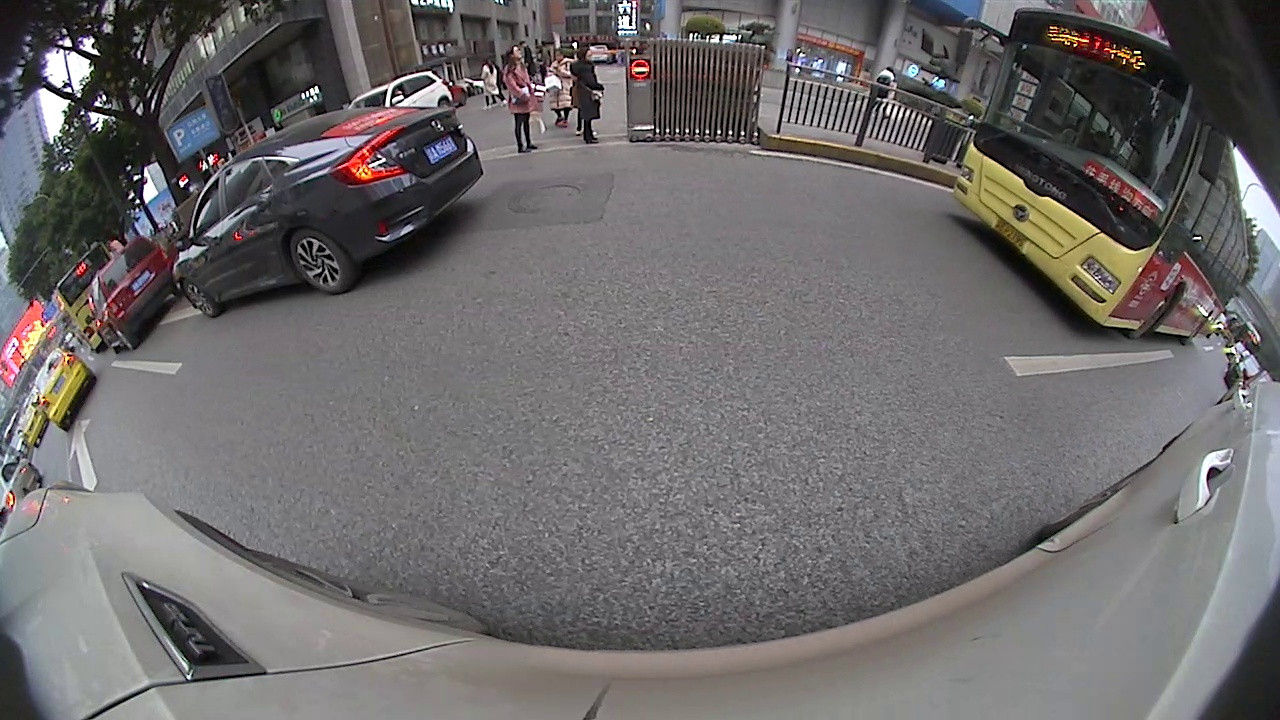bus: (947, 5, 1257, 351)
car: (167, 102, 485, 322), (86, 231, 183, 360), (27, 344, 97, 433), (347, 68, 459, 115)
front: (1124, 286, 1177, 343), (180, 280, 224, 321)
person: (501, 39, 539, 158), (570, 43, 607, 143), (544, 44, 574, 130)
rear: (288, 231, 356, 295), (108, 325, 136, 353)
